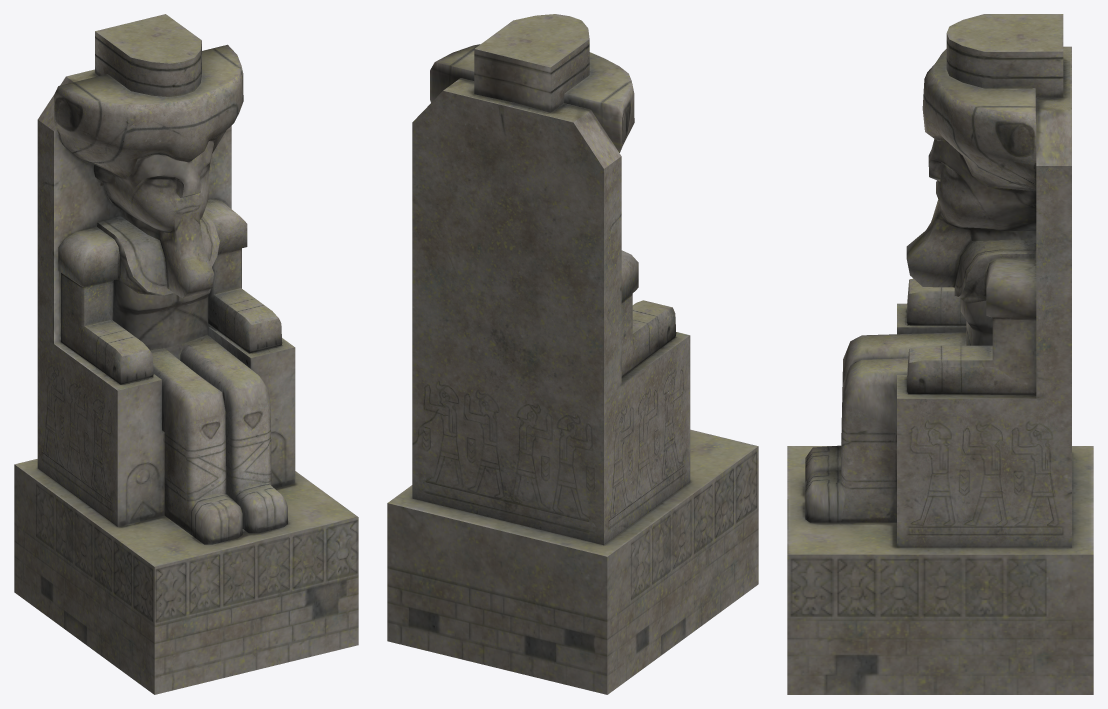
File: sb_obj_ruins002_StoneStatue.fbx
The picture shows the model from 3 angles, left to right: view 1: azimuth 30°, elevation 25°; view 2: azimuth 150°, elevation 25°; view 3: azimuth 270°, elevation 25°; orthographic projection. The views are drawn at different scales.
Visible parts, largest first — view 1: sb_obj_ruins002_StoneStatue; view 2: sb_obj_ruins002_StoneStatue; view 3: sb_obj_ruins002_StoneStatue.
Boxes of the visible parts, x1,y1,x2,y2 form: sb_obj_ruins002_StoneStatue: [14, 14, 358, 694]; sb_obj_ruins002_StoneStatue: [387, 14, 758, 694]; sb_obj_ruins002_StoneStatue: [787, 14, 1093, 694].
Size of the model in its own units: 2 by 5.2 by 2.38.
